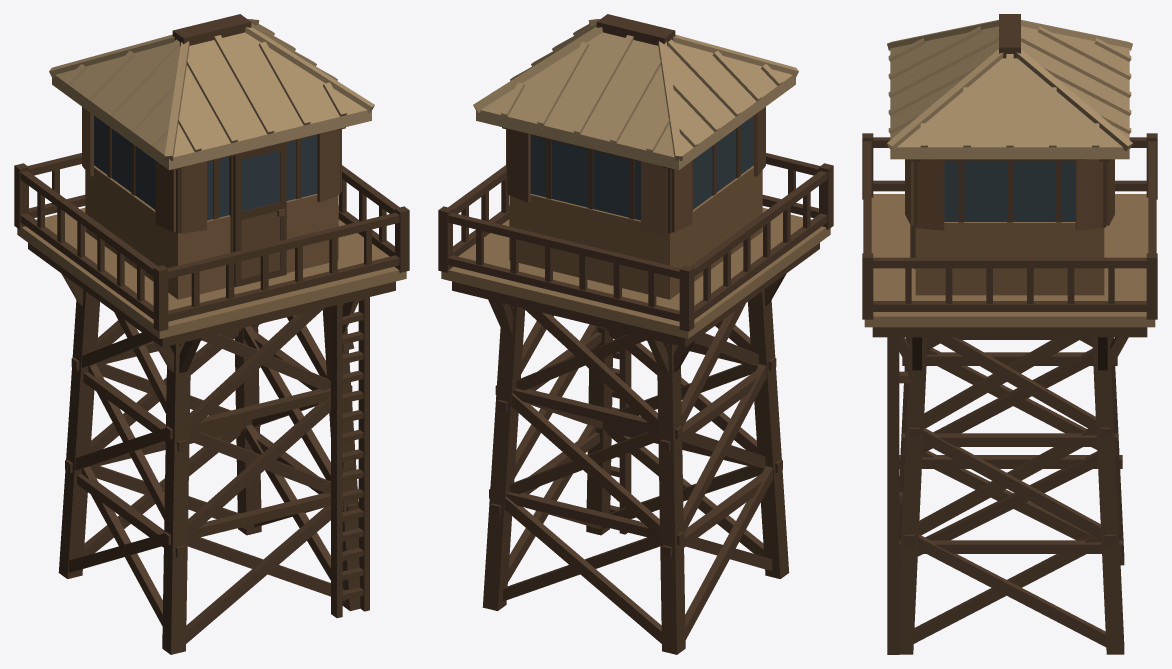
The model's file is fire-lookout-tower-75a129.glb.
3 views of the same model, side by side, from view 1: azimuth 30°, elevation 25°; view 2: azimuth 150°, elevation 25°; view 3: azimuth 270°, elevation 25° (orthographic). The views are drawn at different scales.
Parts seen in each view (by area): view 1: tower-shell, ladder-body, door-leaf; view 2: tower-shell, ladder-body; view 3: tower-shell, ladder-body.
Part boxes in pixels (x1=…): tower-shell: x1=14, y1=14, x2=409, y2=654; ladder-body: x1=331, y1=297, x2=369, y2=618; door-leaf: x1=233, y1=143, x2=286, y2=287; tower-shell: x1=438, y1=14, x2=833, y2=654; ladder-body: x1=609, y1=349, x2=631, y2=534; tower-shell: x1=862, y1=14, x2=1157, y2=654; ladder-body: x1=887, y1=337, x2=910, y2=654.
Size of the model in its own units: 4 by 8.6 by 4.
